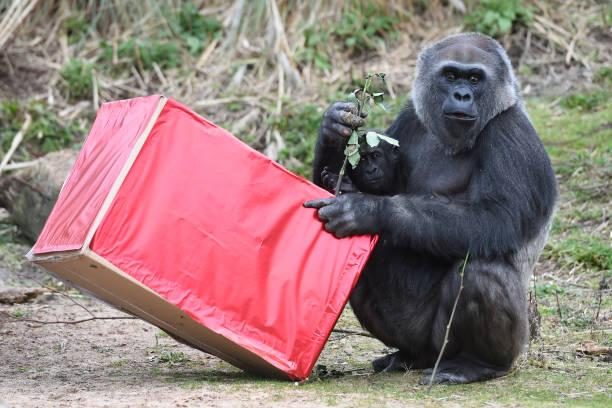gorille_Autres: (344, 0, 579, 248)
